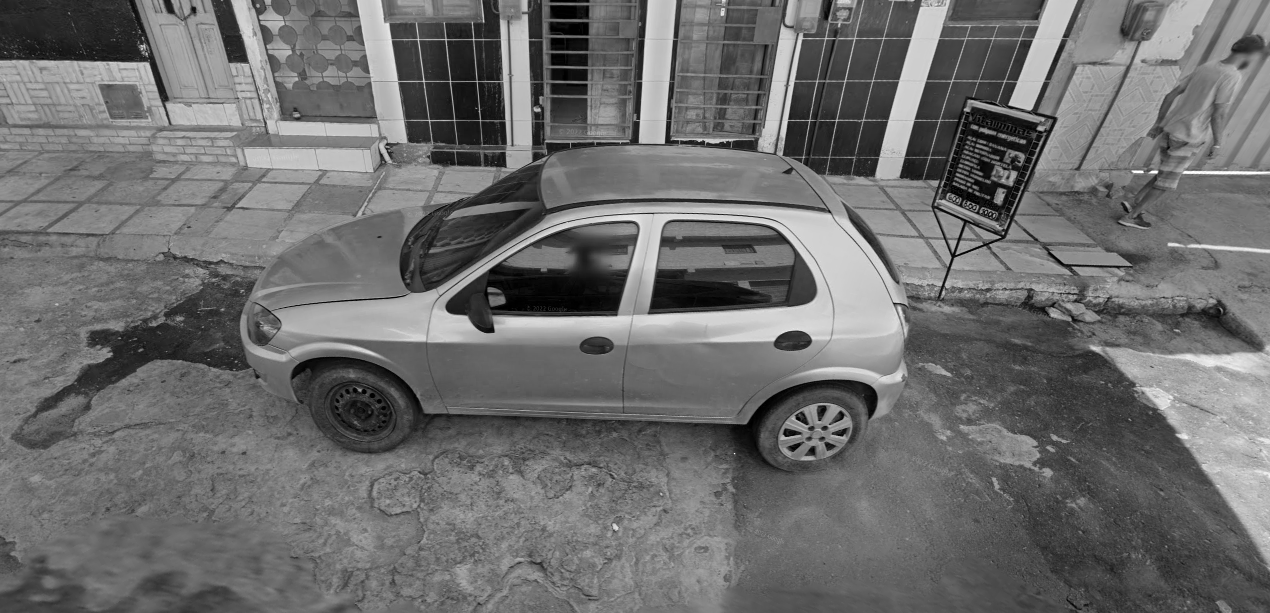car: (232, 136, 923, 503)
